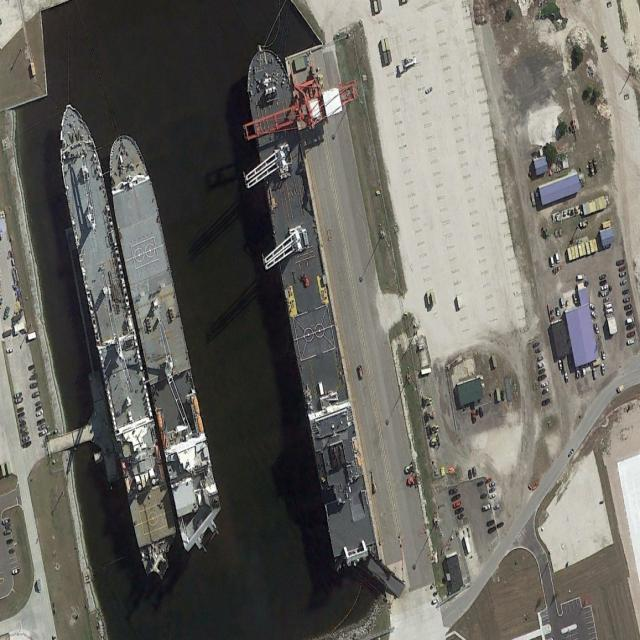Cargo: (242, 40, 377, 571), (49, 97, 184, 582), (98, 128, 227, 557)
